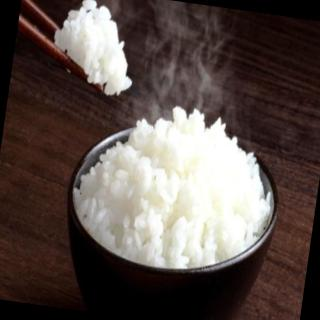Nasi: (65, 91, 285, 283), (47, 1, 144, 98)
